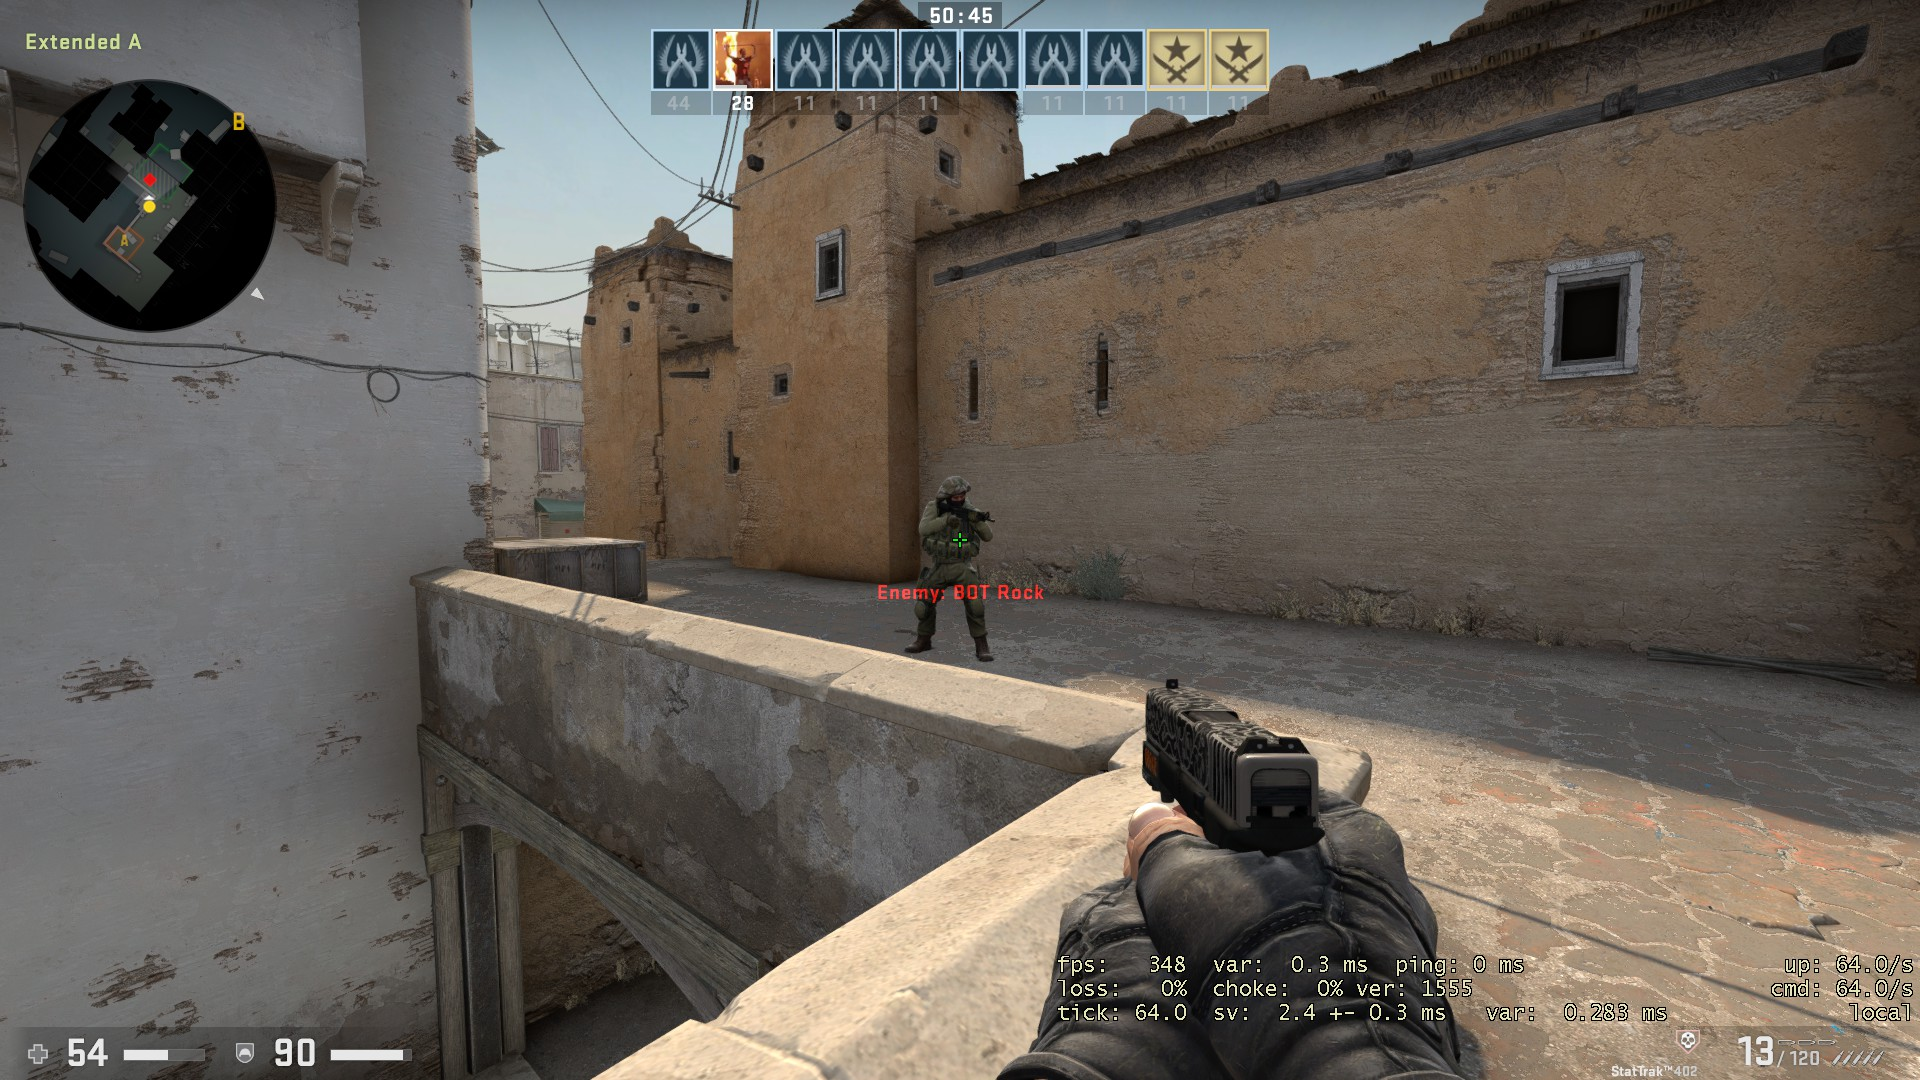player: (901, 471, 999, 667)
